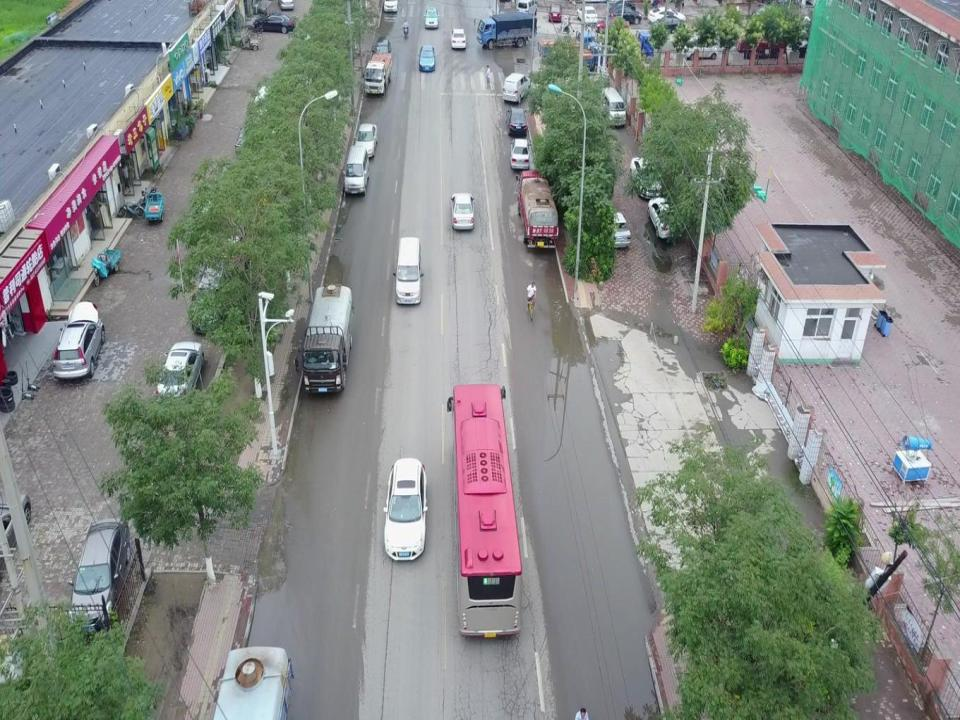bus: (445, 381, 526, 643)
car: (71, 511, 129, 623), (50, 295, 106, 381), (384, 457, 425, 563), (156, 340, 204, 401), (0, 488, 32, 572), (188, 193, 246, 234), (249, 84, 285, 120), (647, 196, 677, 238), (630, 155, 659, 198), (449, 191, 478, 231), (602, 208, 631, 248), (680, 34, 718, 59), (234, 122, 262, 152), (355, 122, 377, 158), (253, 12, 294, 31), (648, 4, 686, 22), (607, 8, 645, 26), (509, 138, 531, 168), (646, 15, 684, 32), (506, 106, 529, 134), (417, 44, 436, 74), (578, 5, 601, 22), (450, 27, 466, 49), (425, 6, 441, 27), (547, 4, 563, 20)
truck: (209, 644, 293, 720), (298, 285, 354, 393), (514, 170, 558, 250), (473, 12, 539, 46), (539, 28, 601, 56), (591, 30, 653, 58), (364, 51, 394, 92)
van: (194, 251, 230, 333), (392, 237, 424, 304), (343, 145, 369, 199), (596, 86, 627, 130), (503, 72, 530, 102), (515, 0, 535, 13)
